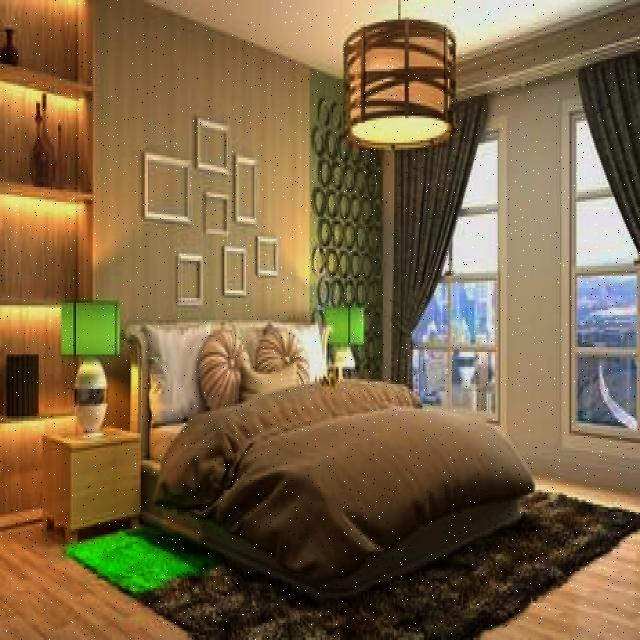bed: (142, 313, 522, 566)
